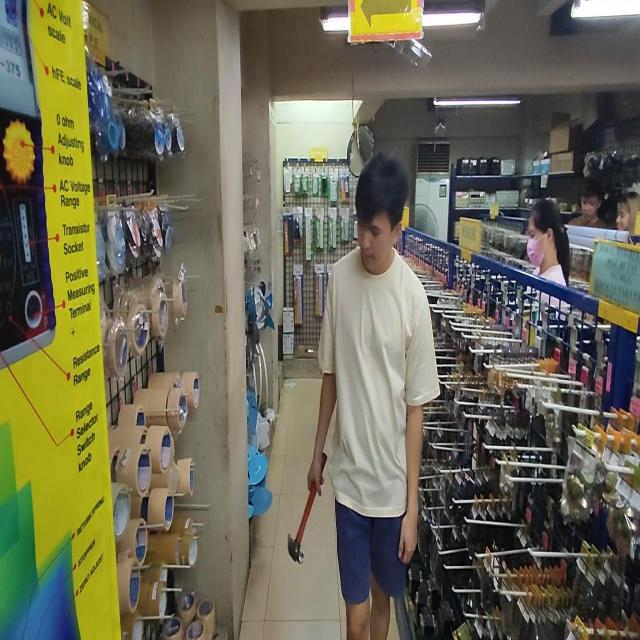hammer: (288, 452, 327, 564)
